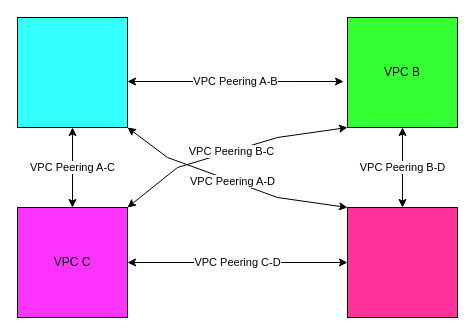
Some shapes in this 475 by 335 pixel diagram are drawn without their labels. The box of each missing label's shape, as (x1, y1, x2, y2) in pixels:
VPC A: (16, 16, 128, 128)
VPC D: (346, 206, 458, 318)
